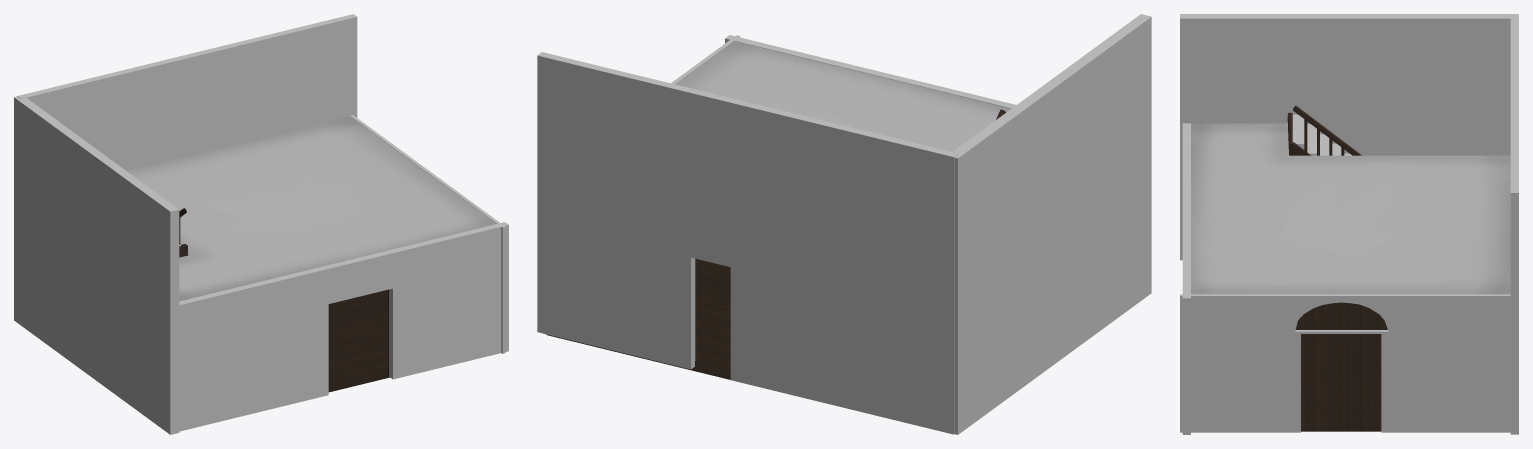
File: FoyerRoom.fbx
3 views of the same model, side by side, from view 1: azimuth 30°, elevation 25°; view 2: azimuth 150°, elevation 25°; view 3: azimuth 270°, elevation 25° (orthographic). The views are drawn at different scales.
Parts seen in each view (by area): view 1: wall_south, wall_east, ceiling, wall_west, floor, wall_north; view 2: wall_west, wall_south, ceiling, floor, wall_east; view 3: ceiling, wall_south, wall_north, floor, wall_west, wall_east, stairs, polySurface40, polySurface39.
Part boxes in pixels (bbox=[...]): wall_south: bbox=[14, 96, 179, 434]; wall_east: bbox=[179, 222, 508, 431]; ceiling: bbox=[126, 116, 496, 301]; wall_west: bbox=[17, 14, 357, 170]; floor: bbox=[328, 289, 389, 392]; wall_north: bbox=[350, 115, 505, 353]; wall_west: bbox=[537, 52, 958, 434]; wall_south: bbox=[953, 14, 1151, 434]; ceiling: bbox=[675, 41, 1010, 151]; floor: bbox=[547, 259, 730, 379]; wall_east: bbox=[725, 35, 1015, 108]; ceiling: bbox=[1191, 123, 1510, 294]; wall_south: bbox=[1180, 14, 1518, 260]; wall_north: bbox=[1180, 294, 1510, 432]; floor: bbox=[1295, 302, 1387, 431]; wall_west: bbox=[1510, 15, 1518, 434]; wall_east: bbox=[1182, 123, 1190, 434]; stairs: bbox=[1292, 114, 1351, 155]; polySurface40: bbox=[1293, 105, 1361, 155]; polySurface39: bbox=[1287, 112, 1310, 155].
Bounding box in the file's own units: 316 × 200 × 252.
